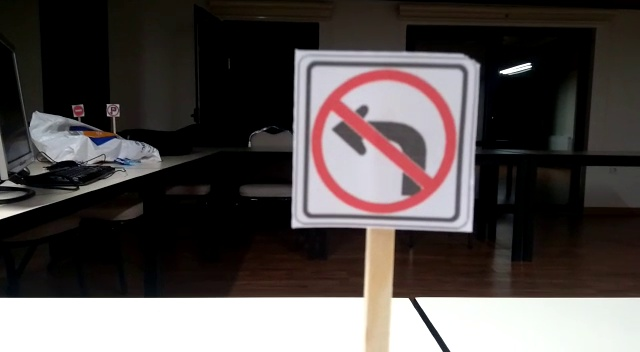sola_donulmez: (301, 58, 476, 221)
